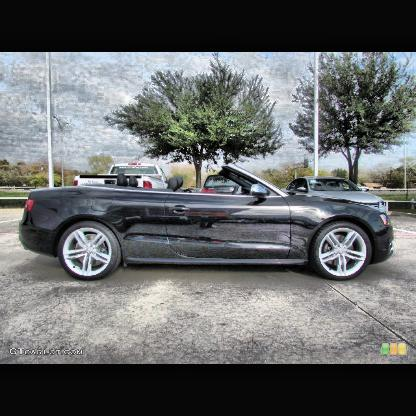Audi S5 Convertible 2012: (19, 165, 396, 281)
